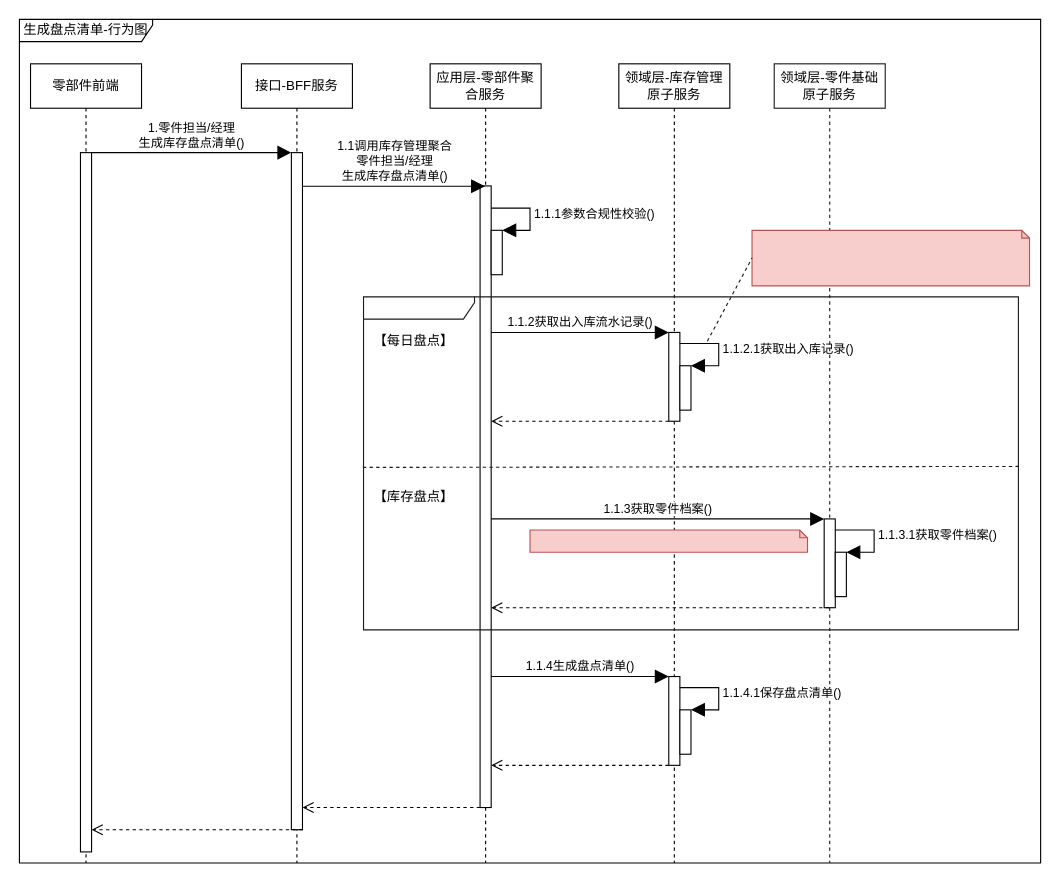
This 1060x882 diagram has some shape labels left out. The shapes that lost their labels are listed below. From the top down, each one's box as (x1, y1, x2, y2) in pixels, then its label:
(751, 229, 1030, 286): 用户填入时间和打印出库、入库时间匹配 未填则默认当天8点-当前时间 （起始时间最多只能设置到前一天8点）
(362, 296, 1018, 630): alt: 校验盘点类型
(529, 529, 808, 552): 根据用户填入库存状态等条件筛选
